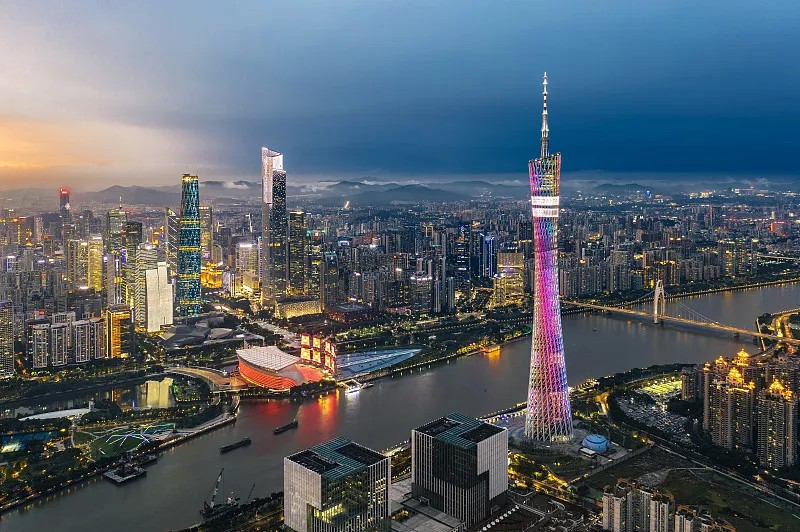Canton: (524, 70, 574, 444)
